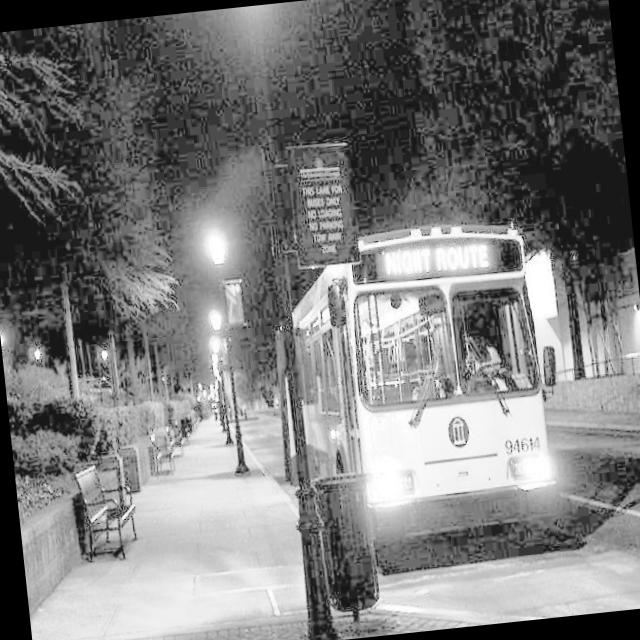Bus: (279, 199, 580, 574)
